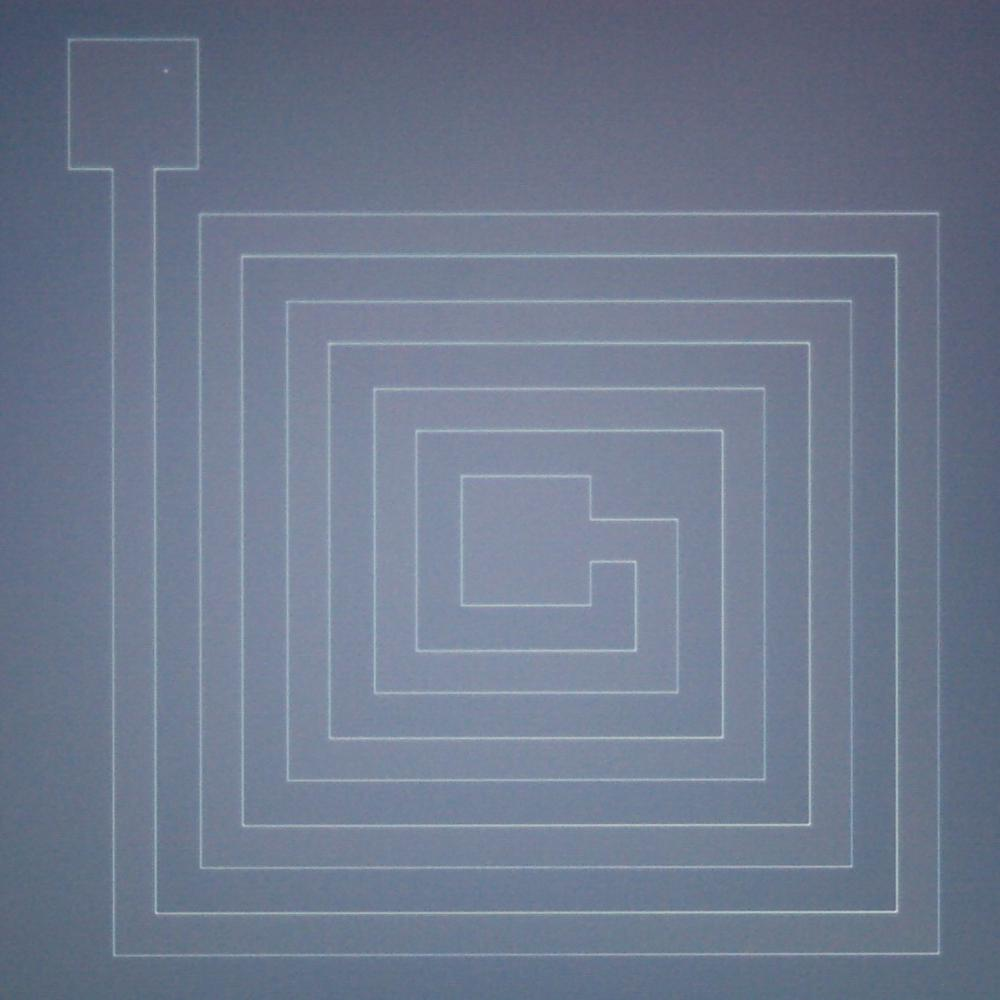dot: (164, 69, 168, 73)
